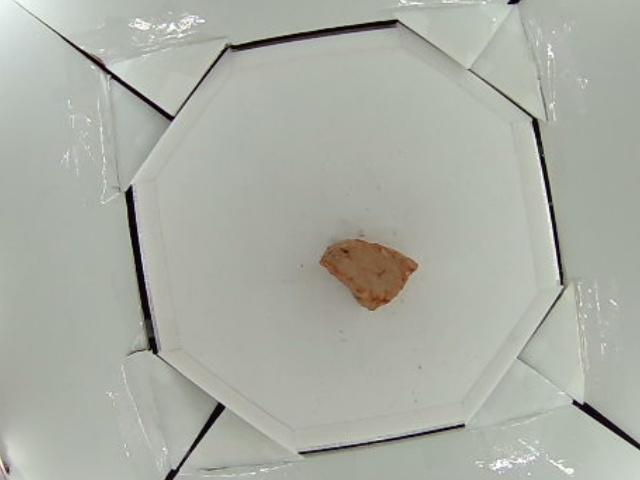Brisk: (321, 238, 421, 310)
